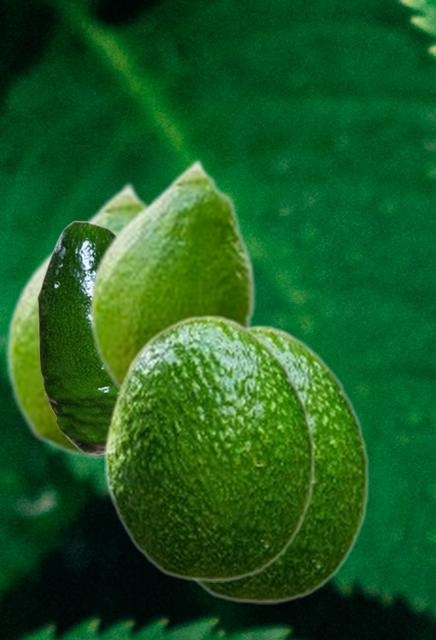avocado: (104, 314, 315, 581), (194, 324, 369, 603), (5, 180, 149, 459), (88, 157, 255, 392), (37, 220, 116, 454)
